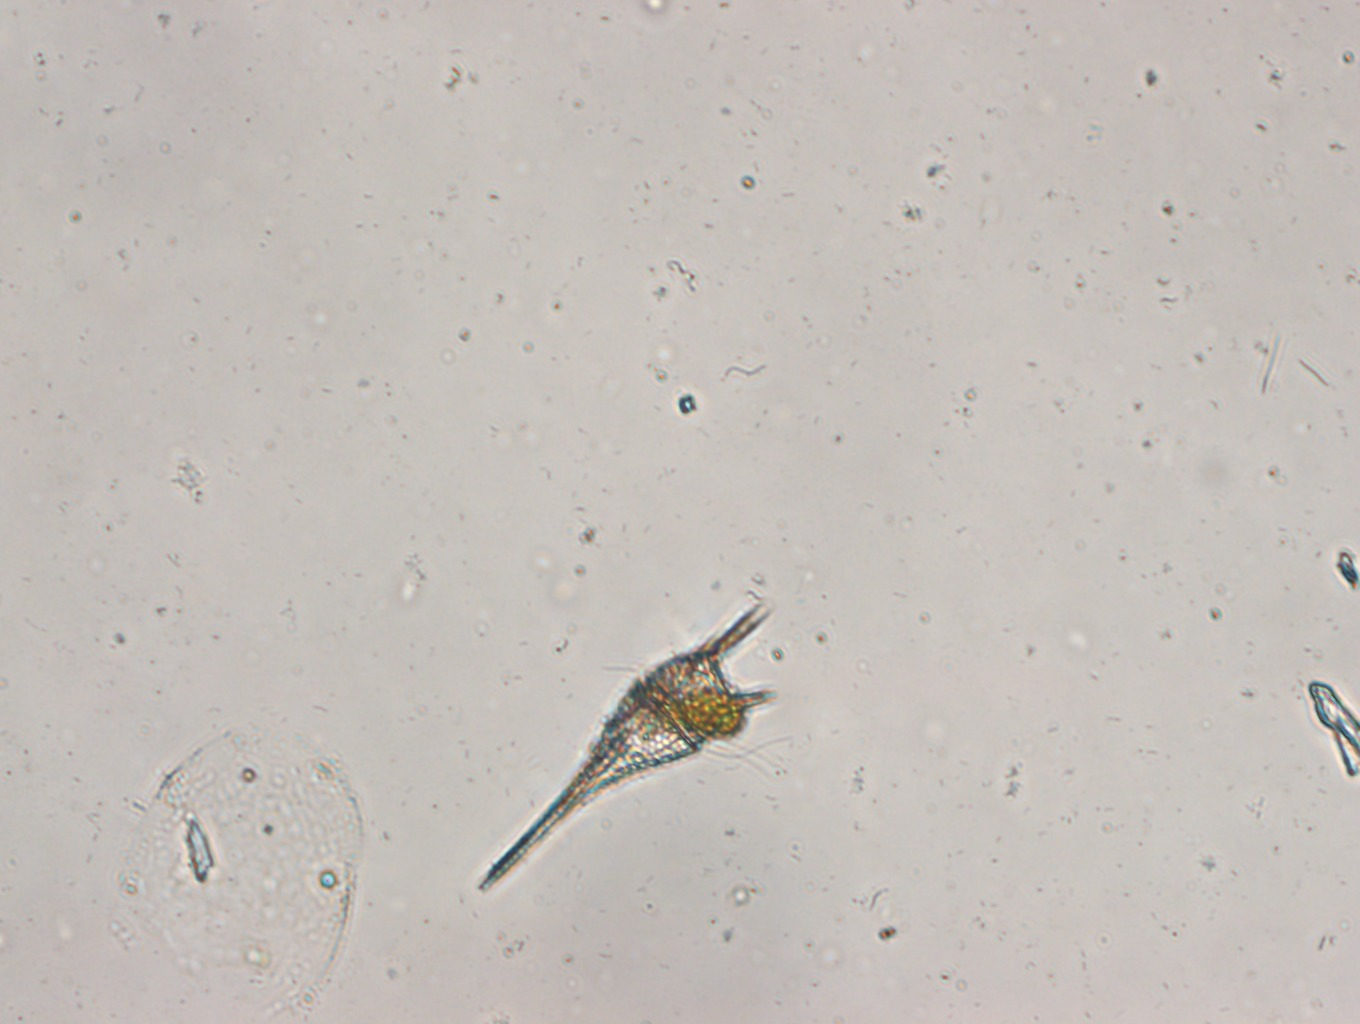ceratium furca: (474, 589, 785, 901)
